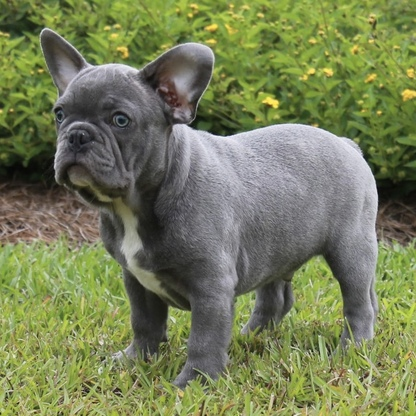bulldog: (34, 24, 384, 394)
